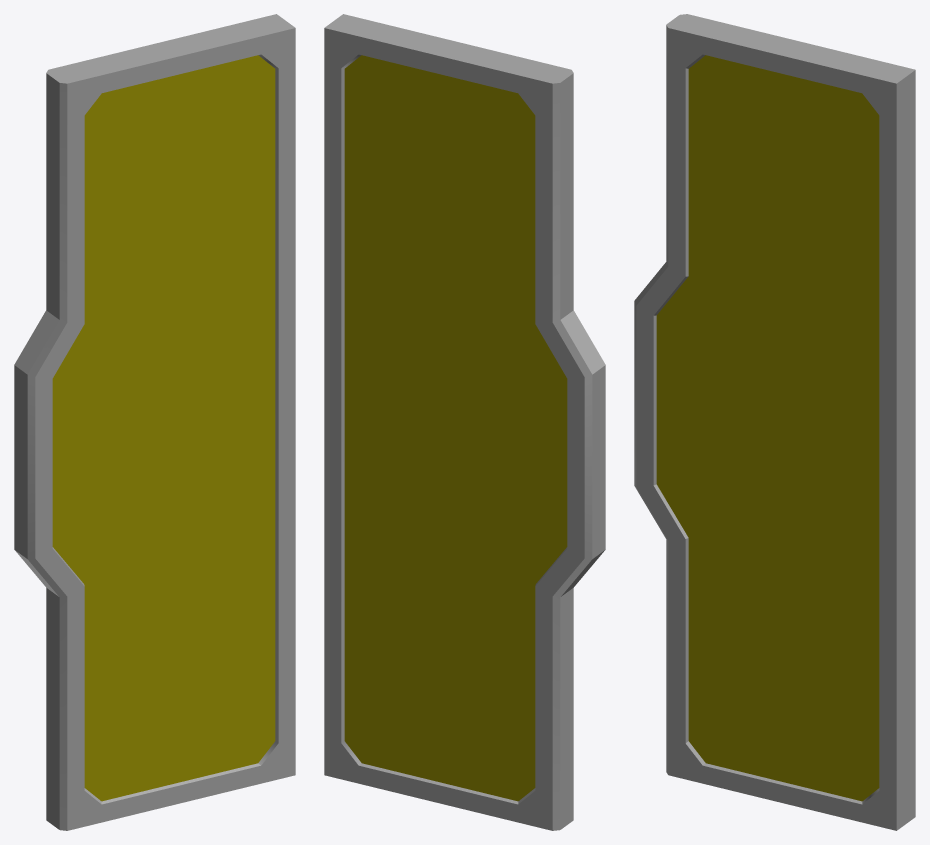
Rendered from SM_Door_02_Glass_G.fbx.
3 views of the same model, side by side, from view 1: azimuth 30°, elevation 25°; view 2: azimuth 150°, elevation 25°; view 3: azimuth 330°, elevation 25° (orthographic).
Parts seen in each view (by area): view 1: polySurface4183; view 2: polySurface4183; view 3: polySurface4183.
Boxes of the visible parts, x1=… form: polySurface4183: x1=14, y1=14, x2=295, y2=830; polySurface4183: x1=324, y1=14, x2=605, y2=830; polySurface4183: x1=634, y1=14, x2=915, y2=830.
Bounding box in the file's own units: 92.34 × 249 × 11.5.
